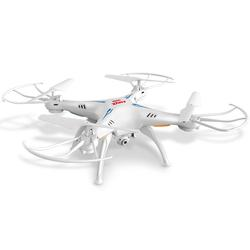drone: (3, 70, 250, 186)
